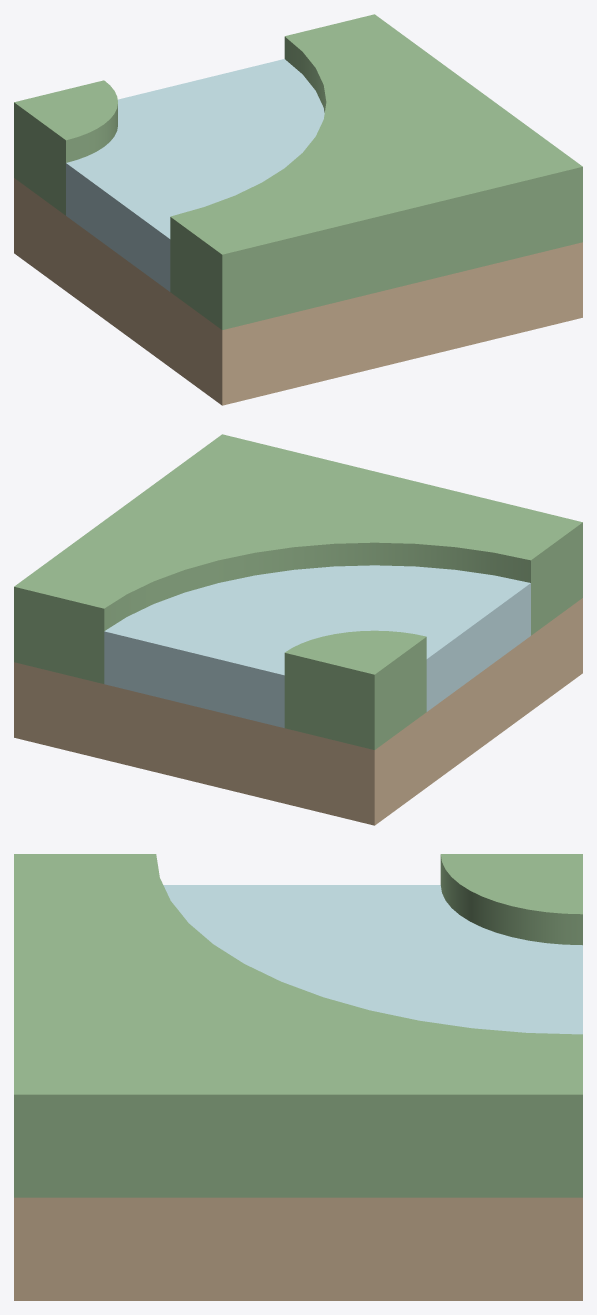
Rendered from tile_080.glb.
The picture shows the model from 3 angles, top to bottom: view 1: azimuth 30°, elevation 25°; view 2: azimuth 150°, elevation 25°; view 3: azimuth 270°, elevation 25°; orthographic projection. The views are drawn at different scales.
Visible parts, largest first — view 1: tile_080; view 2: tile_080; view 3: tile_080.
Part boxes in pixels (x1,y1,x2,y2): tile_080: (14, 14, 582, 405); tile_080: (14, 434, 582, 825); tile_080: (14, 854, 582, 1300).
Size of the model in its own units: 1 by 0.4 by 1.
